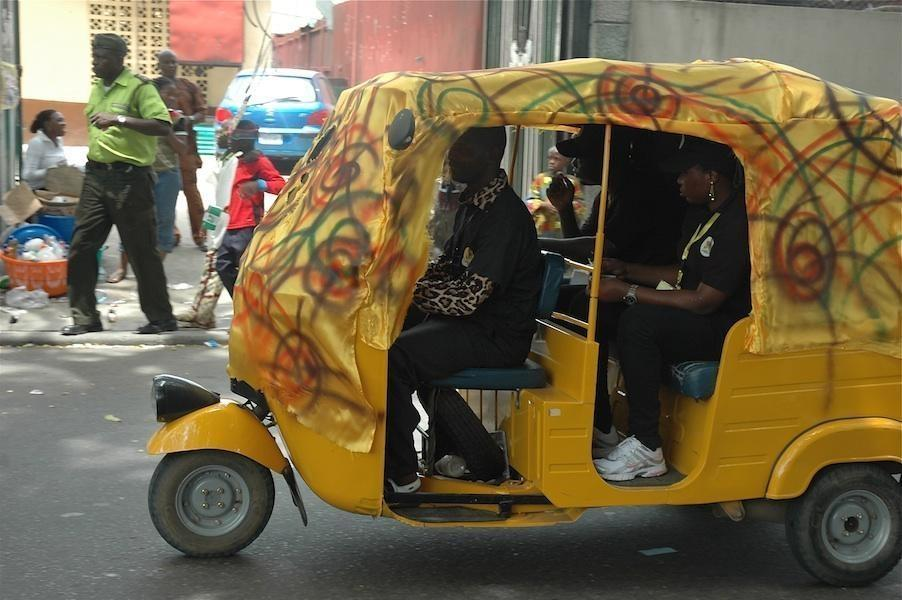keke: (185, 45, 902, 594)
